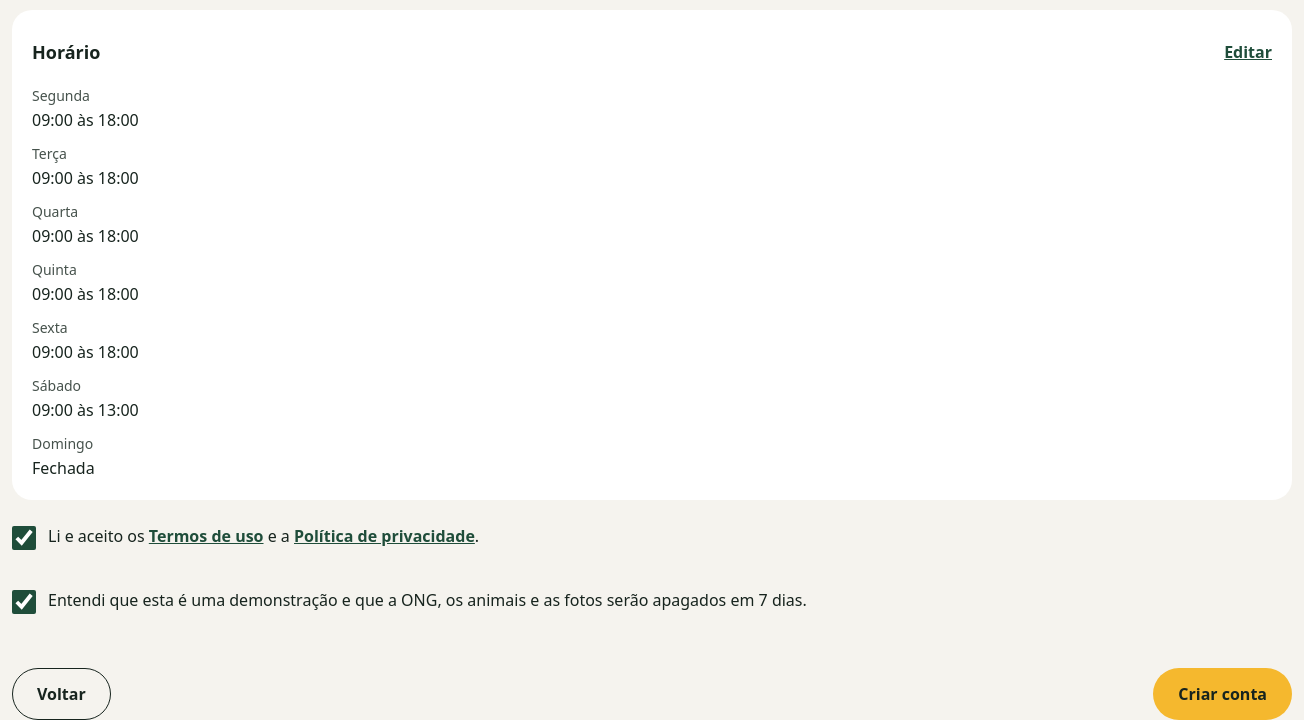
Scenario: StepReview › desmarcar os Termos bloqueia de novo
(page scrolled)
Expected: the button "Criar conta" is enabled, x1=1153 y1=668 x2=1292 y2=719
Click the checkbox named "Li e aceito os Termos de uso e a Política de privacidade." at (24, 538), box x1=12 y1=526 x2=36 y2=550
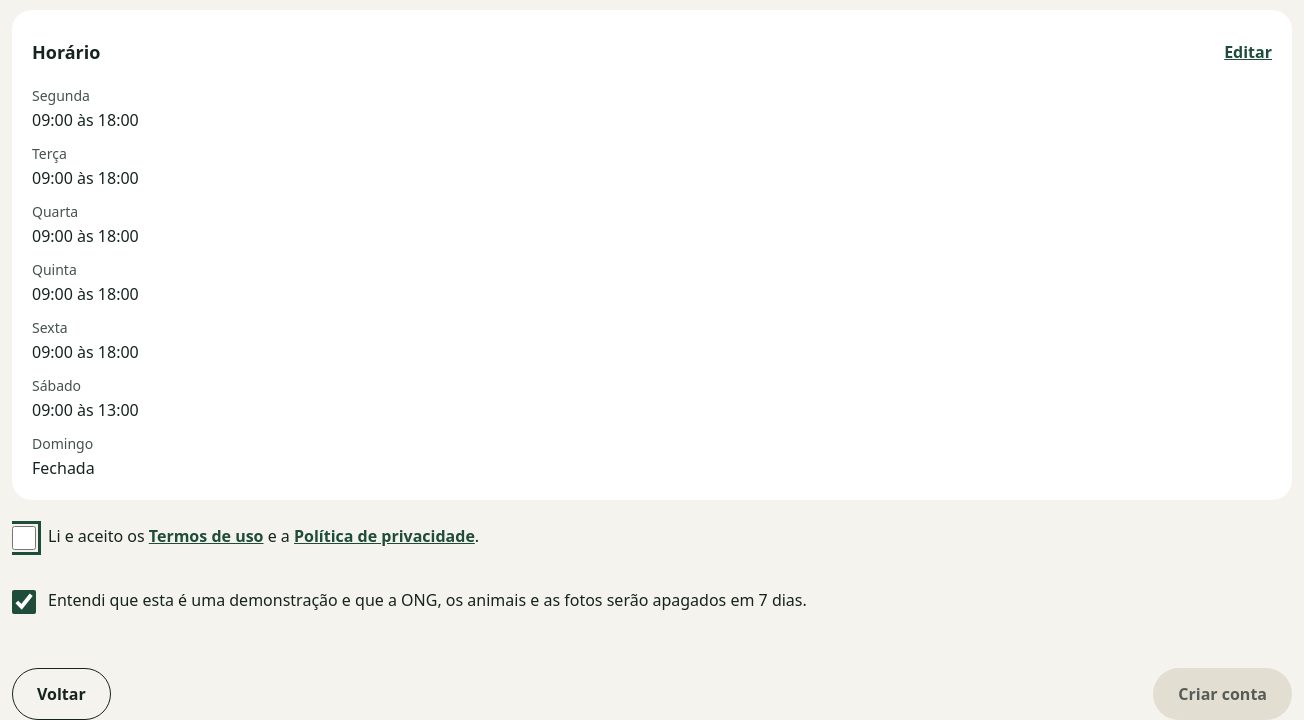
Expected: the button "Criar conta" is disabled, x1=1153 y1=668 x2=1292 y2=719
